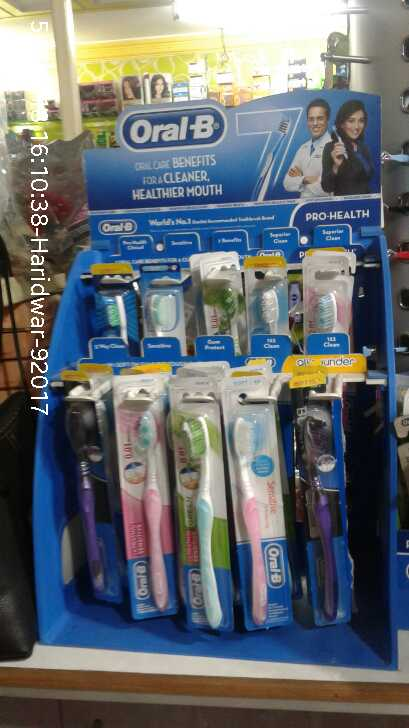oralb: (114, 372, 181, 619), (166, 381, 232, 631), (221, 380, 286, 626), (58, 376, 123, 616), (292, 390, 347, 636)
